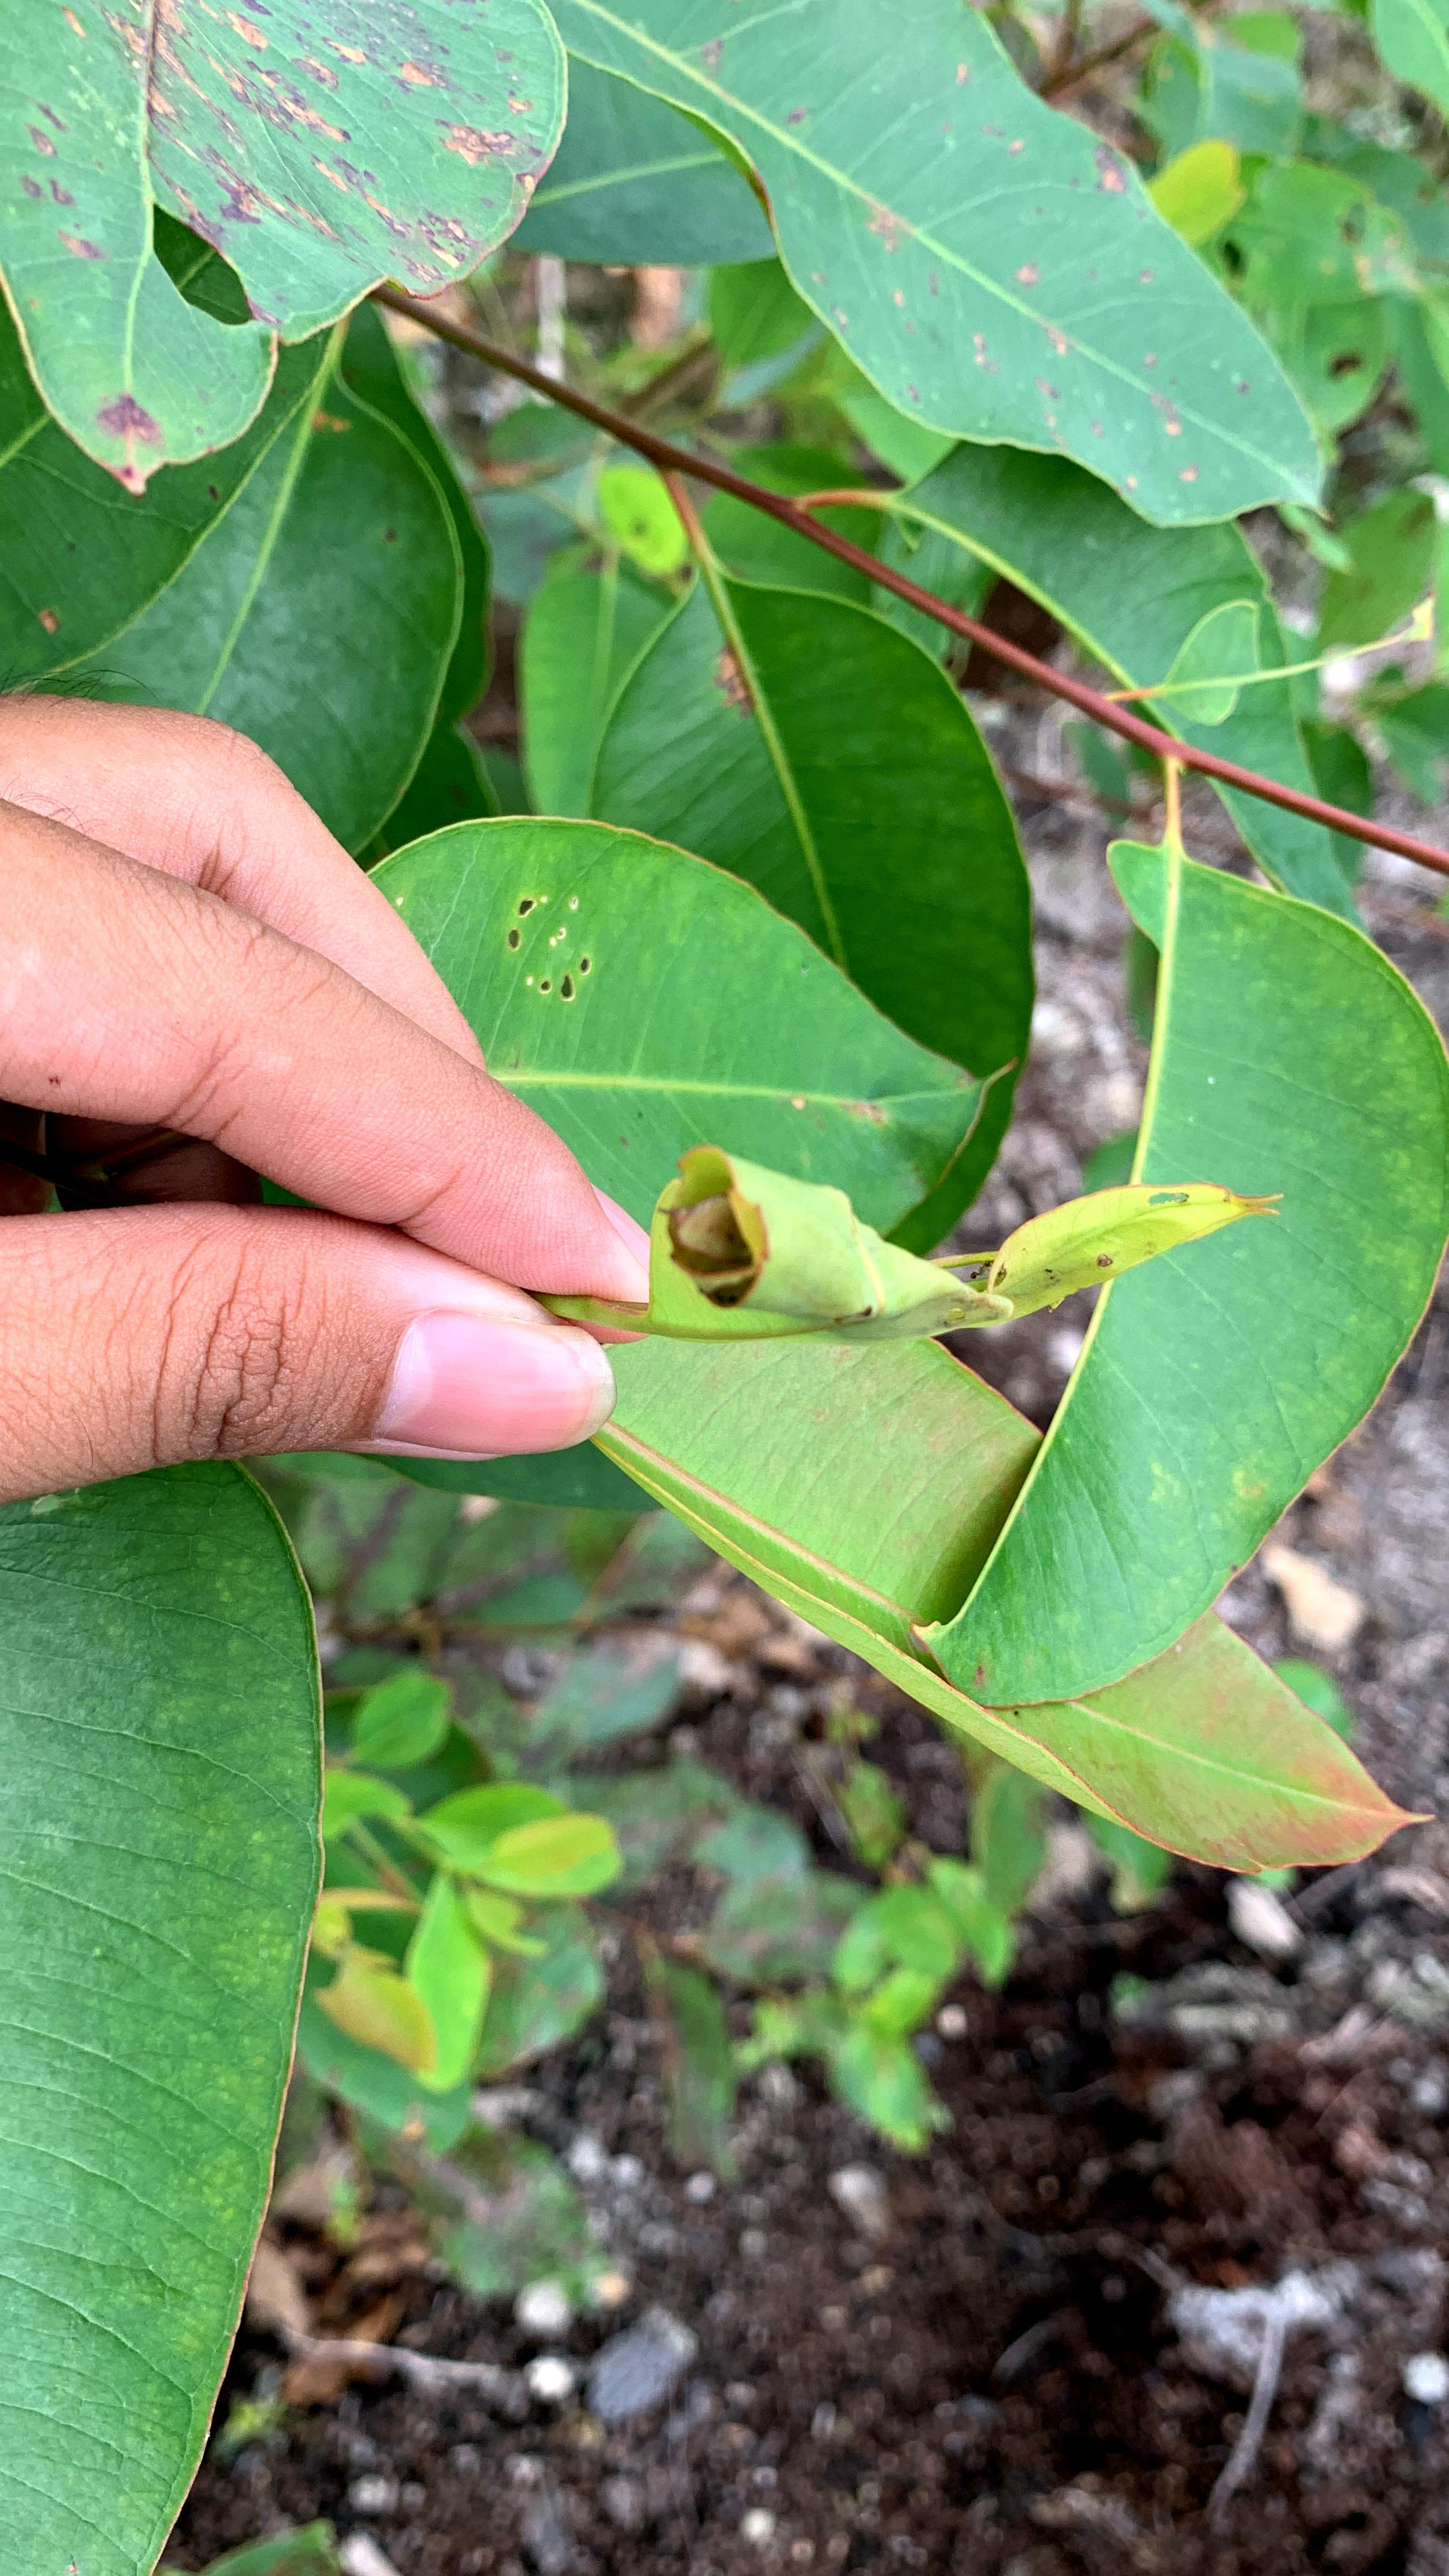Leaf Roller - Leaf: (568, 1154, 1256, 1389)
